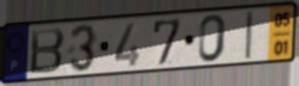0: (198, 13, 229, 64)
3: (64, 22, 100, 74)
4: (113, 21, 142, 68)
7: (151, 16, 183, 67)
B: (28, 26, 66, 76)
I: (243, 9, 255, 62)
